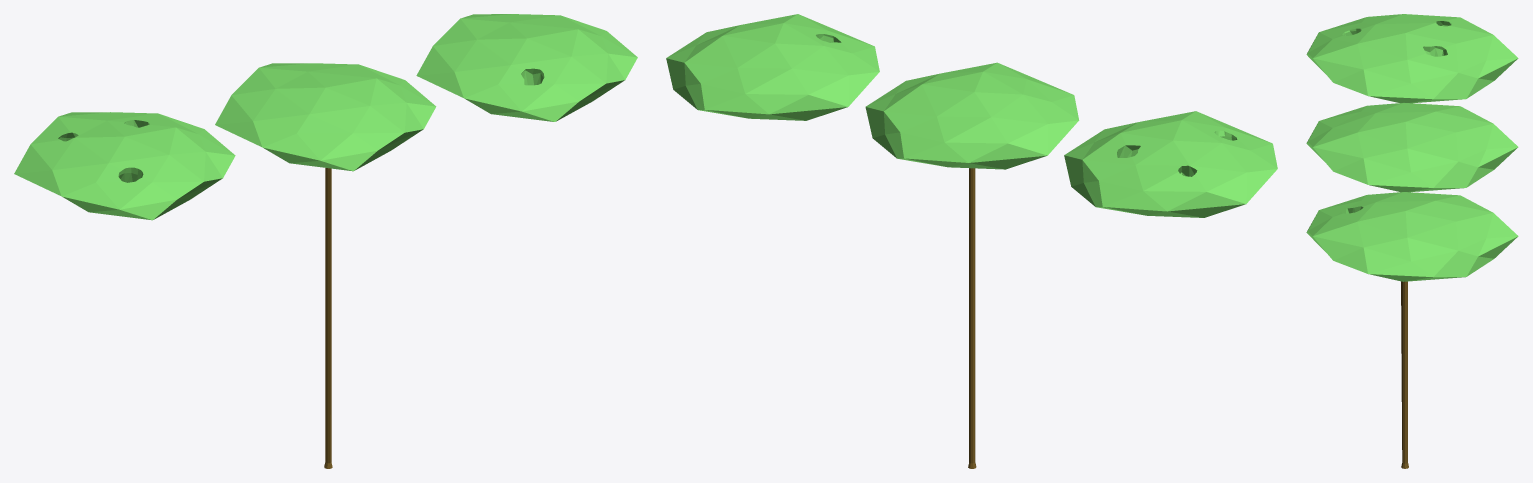
Rendered from LongTree.fbx.
3 views of the same model, side by side, from view 1: azimuth 30°, elevation 25°; view 2: azimuth 150°, elevation 25°; view 3: azimuth 270°, elevation 25° (orthographic). The views are drawn at different scales.
Visible parts, largest first — view 1: Leaves_1, Leaves, Leaves_2, Log; view 2: Leaves, Leaves_1, Leaves_2, Log; view 3: Leaves_2, Leaves_1, Leaves, Log.
Boxes of the visible parts, x1=… form: Leaves_1: x1=14, y1=112, x2=235, y2=220; Leaves: x1=215, y1=63, x2=436, y2=171; Leaves_2: x1=416, y1=14, x2=637, y2=121; Log: x1=324, y1=168, x2=332, y2=468; Leaves: x1=865, y1=62, x2=1079, y2=169; Leaves_1: x1=1064, y1=111, x2=1277, y2=217; Leaves_2: x1=666, y1=14, x2=879, y2=120; Log: x1=968, y1=168, x2=976, y2=468; Leaves_2: x1=1306, y1=192, x2=1518, y2=281; Leaves_1: x1=1306, y1=14, x2=1518, y2=103; Leaves: x1=1306, y1=103, x2=1518, y2=192; Log: x1=1401, y1=281, x2=1408, y2=468.
Size of the model in its own units: 42.41 by 26.11 by 14.58.
